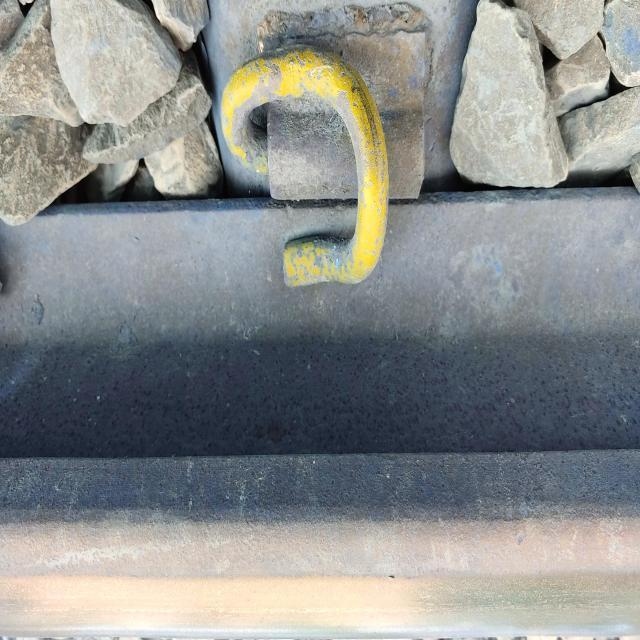Good Fasteners: (204, 3, 440, 329)
